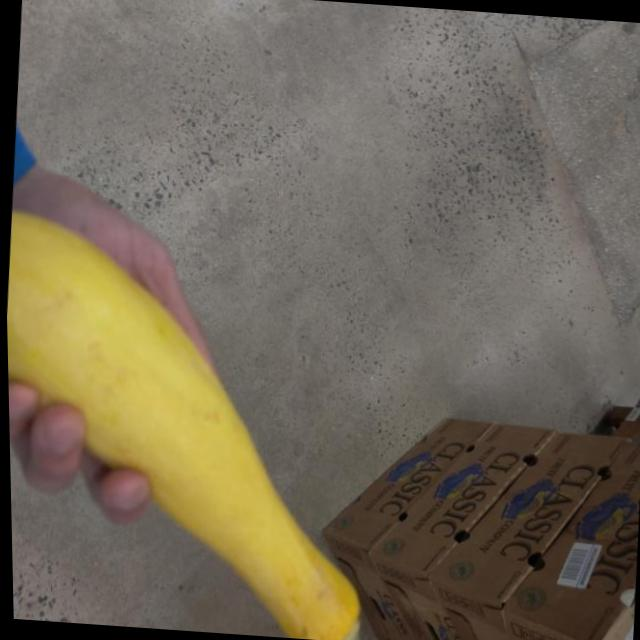Squash: (4, 213, 391, 640)
